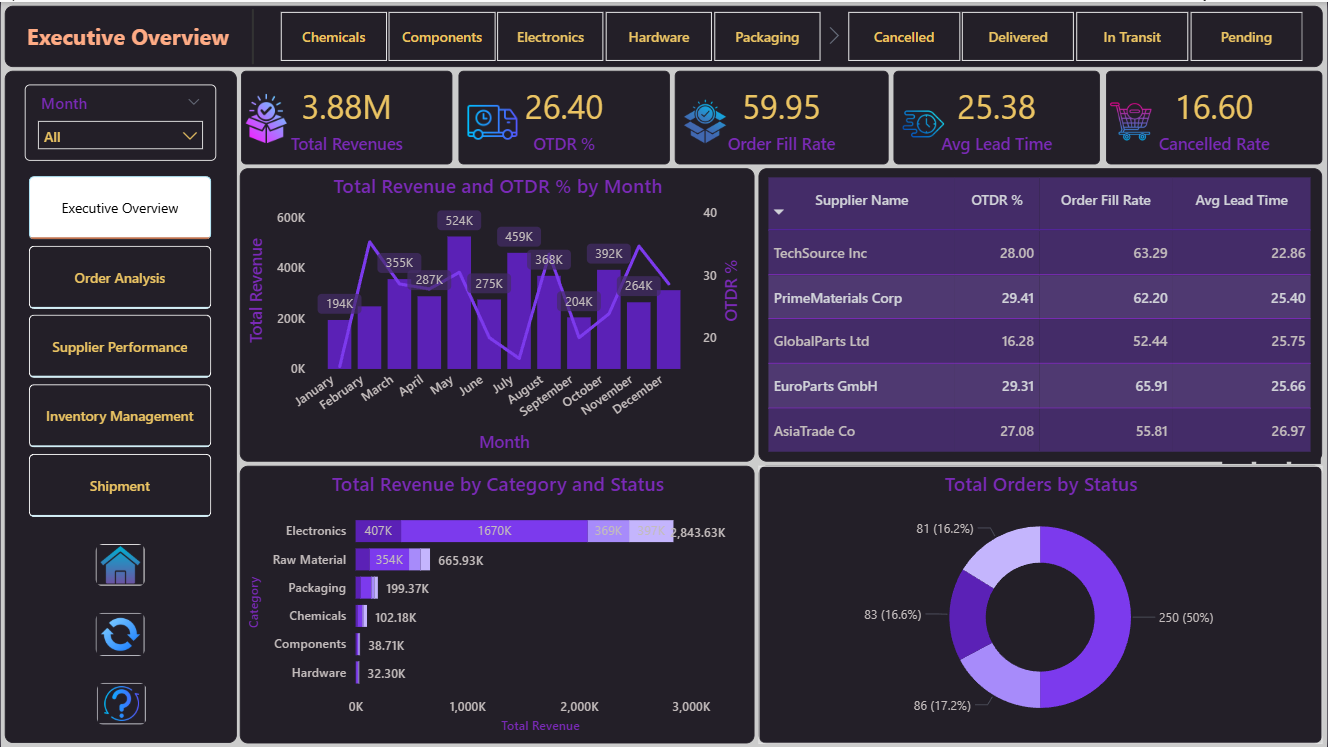

The page's visual inventory and layout, read from the dashboard file:
{"tool":"powerbi","page":{"name":"Executive Overview","canvas":[1280,720],"ordinal":0},"visuals":[{"type":"shape","box":[3.6,66.4,224.4,649.1],"z":0},{"type":"card","fields":{"Values":["Sum(Orders.Total_Revenues)"]},"box":[231.6,66.4,204,90.5],"z":1000},{"type":"shape","box":[3.6,3.6,1272,59.1],"z":2000},{"type":"shape","box":[235.3,6,15.7,54.3],"z":3000},{"type":"card","fields":{"Values":["Orders.Order_Fill_Rate"]},"box":[650.5,66.4,206,90.5],"z":4000},{"type":"card","fields":{"Values":["Orders.Avg_Lead_Time"]},"box":[862,66.4,199.1,90.5],"z":5000},{"type":"card","fields":{"Values":["Orders.Cancelled_Rate"]},"box":[1066.5,66.4,208.7,90.5],"z":6000},{"type":"card","fields":{"Values":["Orders.OTDR %"]},"box":[441.1,66.4,203.9,90.5],"z":7000},{"type":"textbox","box":[12.1,6,218.4,57.9],"z":8000},{"type":"lineClusteredColumnComboChart","title":"Total Revenue and OTDR % by Month","fields":{"Category":["Orders.Order_Date.Variation.Date Hierarchy.Month"],"Y":["Orders.Total_Revenue"],"Y2":["Orders.OTDR %"]},"box":[230.4,160.5,497.1,283.5],"z":9000},{"type":"donutChart","title":"Total Orders by Status","fields":{"Category":["Orders.Status"],"Y":["CountNonNull(Orders.Order_ID)"]},"box":[731.1,447.6,544.1,267.8],"z":10000},{"type":"barChart","title":"Total Revenue by Category and Status","fields":{"Category":["Orders.Category"],"Y":["Orders.Total_Revenue"],"Series":["Orders.Status"]},"box":[230.4,447.6,497.1,267.8],"z":11000},{"type":"tableEx","fields":{"Values":["Orders.Supplier_Name","Orders.OTDR %","Orders.Order_Fill_Rate","Orders.Avg_Lead_Time"]},"box":[731.1,160.5,544.1,283.5],"z":12000},{"type":"slicer","fields":{"Values":["Orders.Category"]},"box":[243.8,2.5,571.2,61.2],"z":13000},{"type":"slicer","fields":{"Values":["Orders.Order Date.Variation.Date Hierarchy.Year","Orders.Order Date.Variation.Date Hierarchy.Month"]},"box":[22.9,79.6,184.6,73.6],"z":14000},{"type":"image","box":[435.5,88.1,77.2,55.5],"z":15000},{"type":"image","box":[231.2,81.2,48.8,63.8],"z":16000},{"type":"image","box":[657.5,94.1,43.4,42.2],"z":17000},{"type":"image","box":[857.8,94.1,65.1,47.1],"z":18000},{"type":"image","box":[1062.9,94.1,55.5,42.2],"z":19000},{"type":"pageNavigator","box":[22.9,164.1,184.6,337.8],"z":20000},{"type":"slicer","fields":{"Values":["Orders.Status"]},"box":[791.4,2.4,488.6,61.5],"z":21000},{"type":"image","box":[90.5,588.7,49.5,43.4],"z":22000},{"type":"image","box":[91.7,656.3,49.5,42.2],"z":23000},{"type":"image","box":[90.5,522.4,49.5,42.2],"z":24000}]}

Visuals, with their boxes in screenshot pixels (x1, y1, x2, y2), scaled from the page's 1280x720 canvas onto the 1328x747 screenshot:
shape: l=4, t=69, r=237, b=742
card - Sum(Orders.Total_Revenues): l=240, t=69, r=452, b=163
shape: l=4, t=4, r=1323, b=65
shape: l=244, t=6, r=260, b=63
card - Orders.Order_Fill_Rate: l=675, t=69, r=889, b=163
card - Orders.Avg_Lead_Time: l=894, t=69, r=1101, b=163
card - Orders.Cancelled_Rate: l=1106, t=69, r=1323, b=163
card - Orders.OTDR %: l=458, t=69, r=669, b=163
textbox: l=13, t=6, r=239, b=66
"Total Revenue and OTDR % by Month" lineClusteredColumnComboChart: l=239, t=167, r=755, b=461
"Total Orders by Status" donutChart: l=759, t=464, r=1323, b=742
"Total Revenue by Category and Status" barChart: l=239, t=464, r=755, b=742
tableEx - Orders.Supplier_Name x Orders.OTDR %: l=759, t=167, r=1323, b=461
slicer - Orders.Category: l=253, t=3, r=846, b=66
slicer - Orders.Order Date.Variation.Date Hierarchy.Year x Orders.Order Date.Variation.Date Hierarchy.Month: l=24, t=83, r=215, b=159
image: l=452, t=91, r=532, b=149
image: l=240, t=84, r=290, b=150
image: l=682, t=98, r=727, b=141
image: l=890, t=98, r=958, b=146
image: l=1103, t=98, r=1160, b=141
pageNavigator: l=24, t=170, r=215, b=521
slicer - Orders.Status: l=821, t=2, r=1327, b=66
image: l=94, t=611, r=145, b=656
image: l=95, t=681, r=146, b=725
image: l=94, t=542, r=145, b=586
